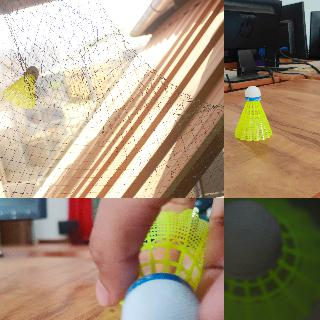shuttlecock: (224, 198, 319, 319), (118, 209, 208, 319), (234, 85, 272, 141), (2, 66, 38, 108)
